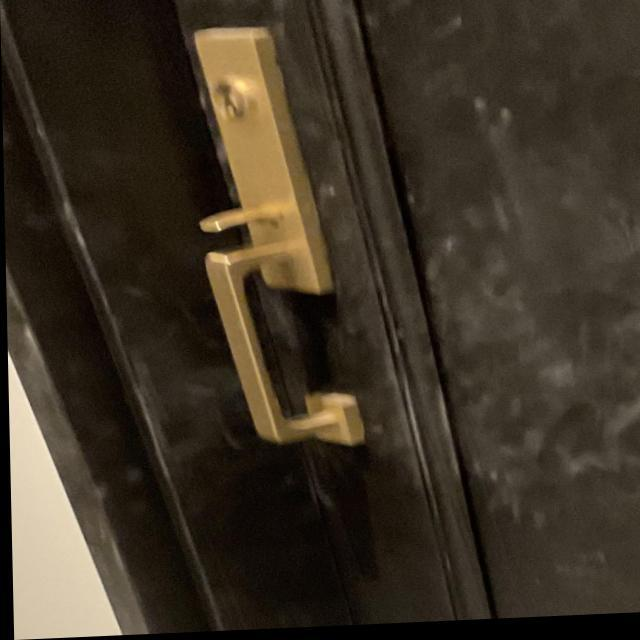door_handle: (178, 240, 382, 460)
